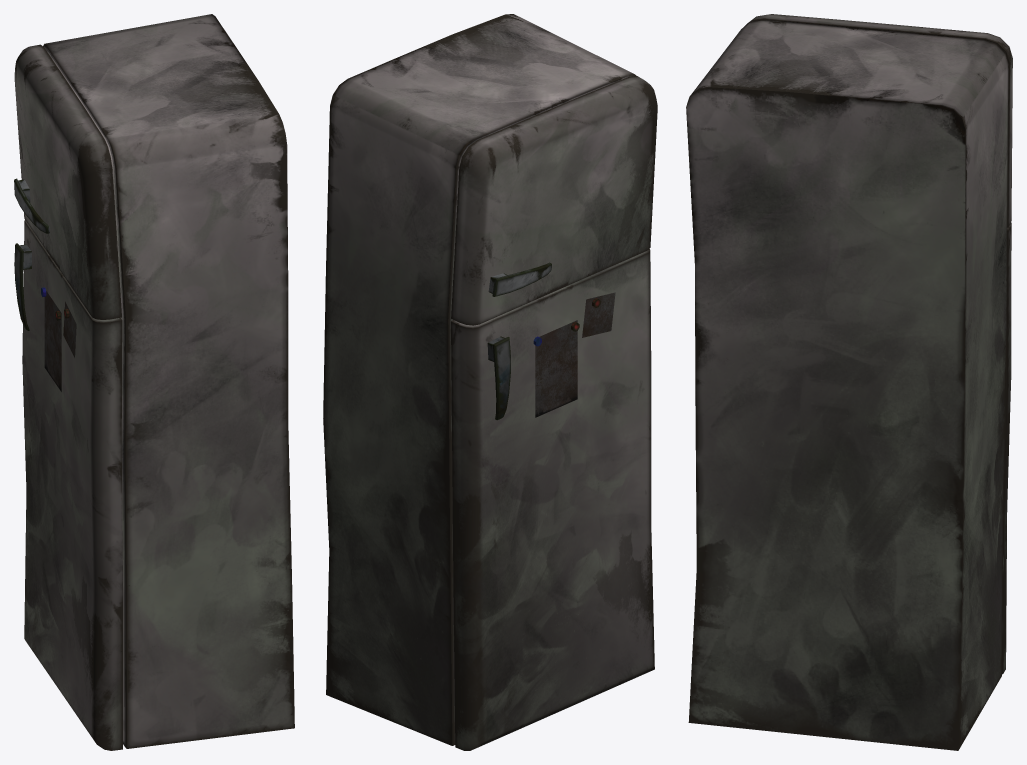
File: Fridge.fbx
The picture shows the model from 3 angles, left to right: view 1: azimuth 30°, elevation 25°; view 2: azimuth 150°, elevation 25°; view 3: azimuth 270°, elevation 25°; orthographic projection. The views are drawn at different scales.
Parts seen in each view (by area): view 1: Fridge; view 2: Fridge; view 3: Fridge.
Boxes of the visible parts, box(x1,y1,x2,y2) form: Fridge: box(14, 14, 294, 750); Fridge: box(323, 14, 657, 750); Fridge: box(686, 14, 1012, 750).
Bounding box in the file's own units: 73.4 × 183 × 85.11.
